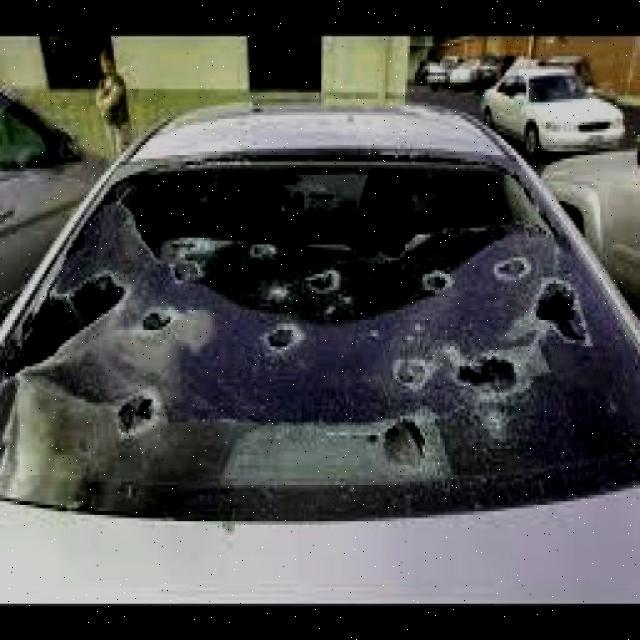car damage: (6, 157, 637, 509)
